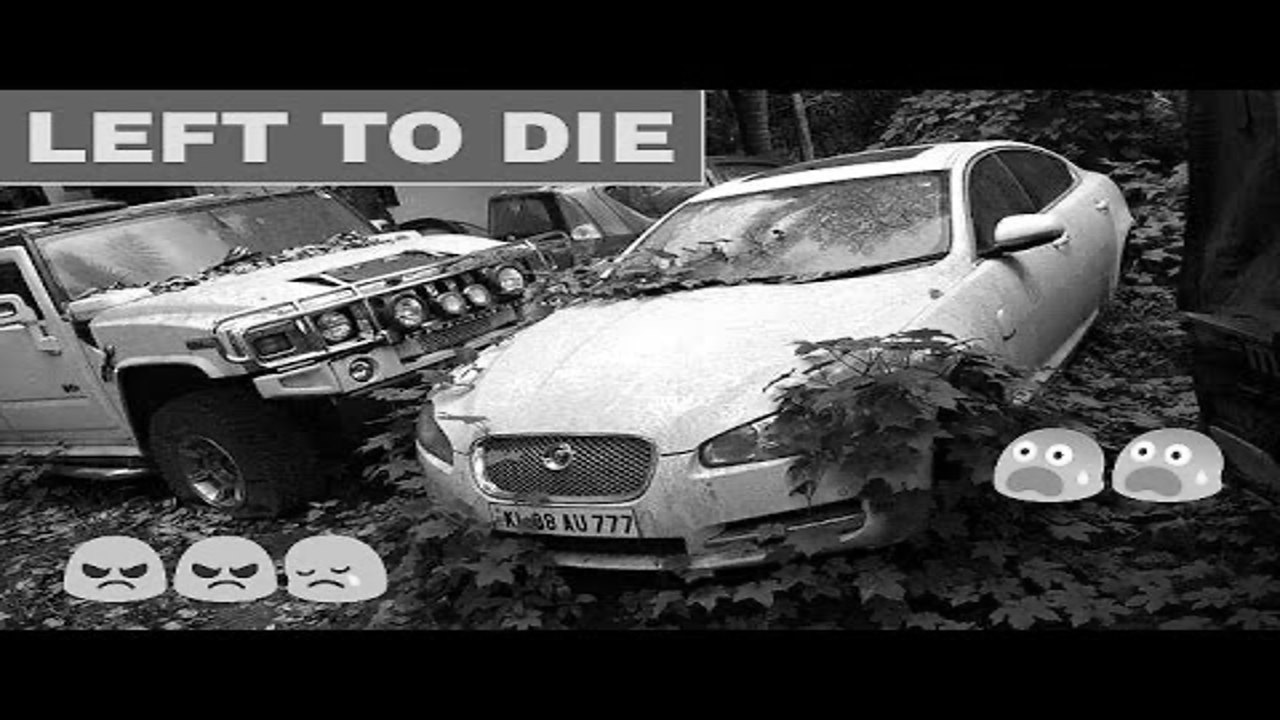license: (485, 499, 647, 542)
